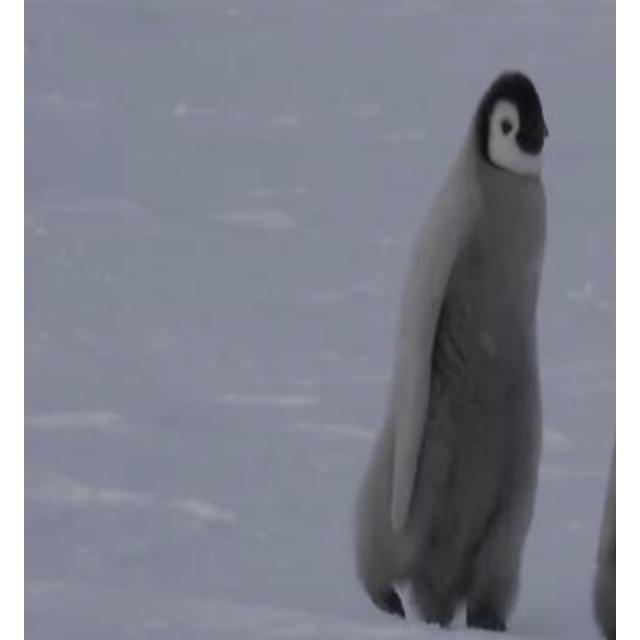penguin: (349, 70, 551, 634)
